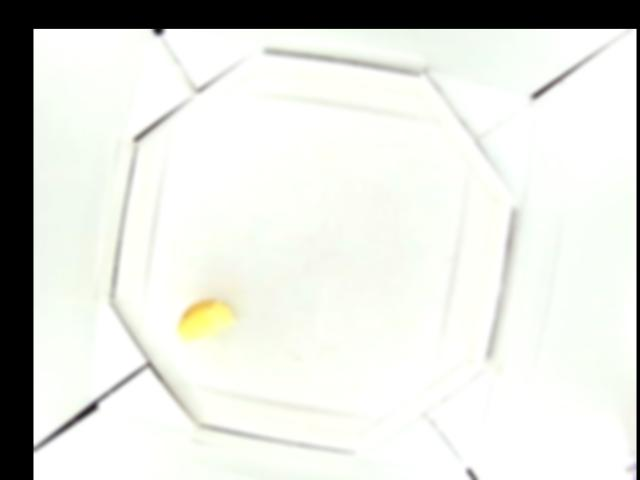Potato: (176, 298, 235, 339)
